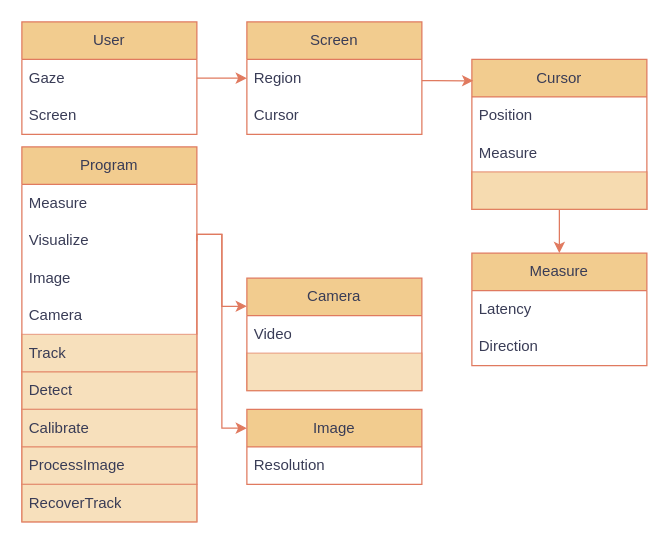
This 669x544 diagram has some shape labels left out. Here are the shapes that lost their labels. From the top down, the centre of each, then its label:
At point 559,190: "show".
At point 334,371: "Record".
